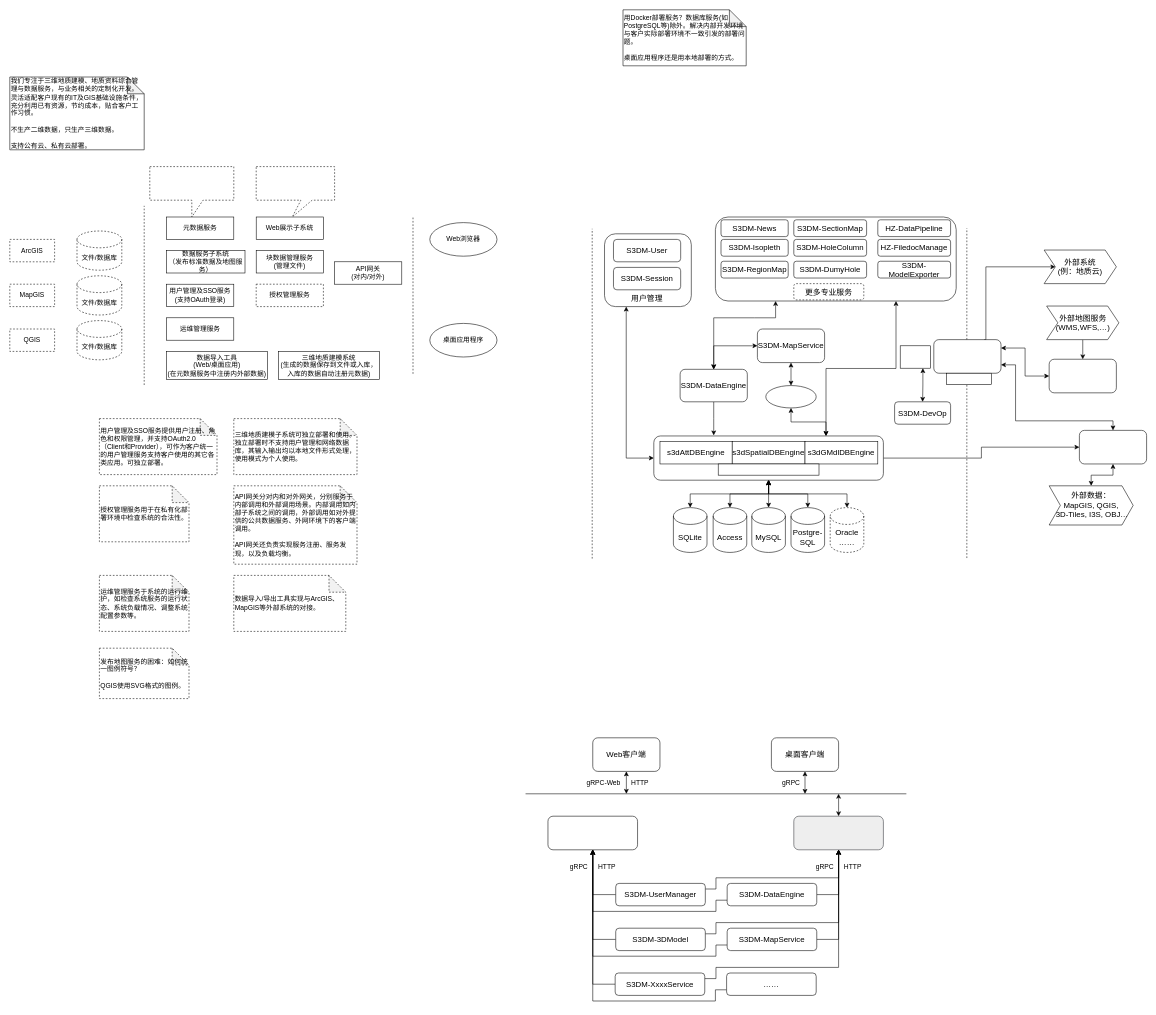
This 1156x1015 diagram has some shape labels left out. Here are the shapes that lost their labels. From the top down, the box of each, then its label:
(149, 166, 234, 217): 注册系统内外部数据的元数据信息，包括外部数据库、文件、外部数据服务、对外发布的数据服务等。
(256, 166, 335, 217): （1）配置场景； （2）场景展示； （3）所有图层均采用标准数据服务的方式接入。
(900, 345, 930, 368): 服务注册 负载均衡
(933, 339, 1001, 373): S3DM-APIGateway (Kong)
(1049, 359, 1116, 393): S3DM-WebApp
(765, 385, 816, 408): GeoServer
(946, 373, 991, 384): gRPC, HTTP
(1079, 430, 1147, 464): S3DM-GeoModeling
(718, 463, 819, 475): SQLAPI++, GDAL, ODBC, JDBC
(547, 816, 638, 850): S3DM-APIGateway (private)
(793, 816, 883, 850): S3DM-APIGateway (public)
